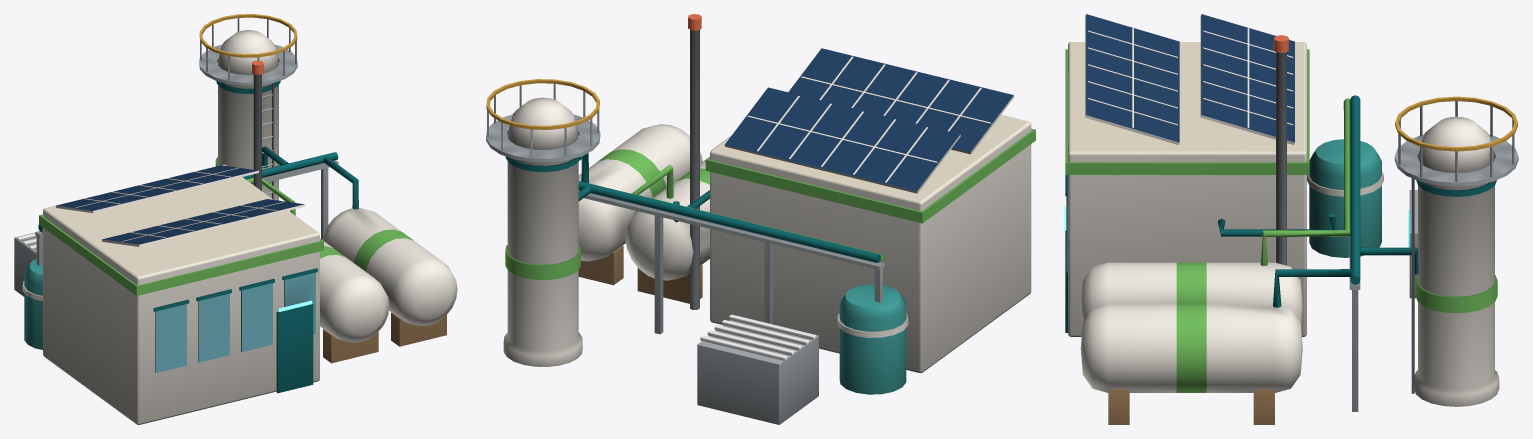
The model's file is hydrogen_plant.fbx.
The picture shows the model from 3 angles, left to right: view 1: azimuth 30°, elevation 25°; view 2: azimuth 150°, elevation 25°; view 3: azimuth 270°, elevation 25°; orthographic projection. The views are drawn at different scales.
Visible parts, largest first — view 1: hydrogen_plant; view 2: hydrogen_plant; view 3: hydrogen_plant.
Part boxes in pixels (x1,y1,x2,y2): hydrogen_plant: (14,14,457,424); hydrogen_plant: (486,14,1035,424); hydrogen_plant: (1064,14,1518,424).
Bounding box in the file's own units: 11.31 × 8.1 × 10.63.
